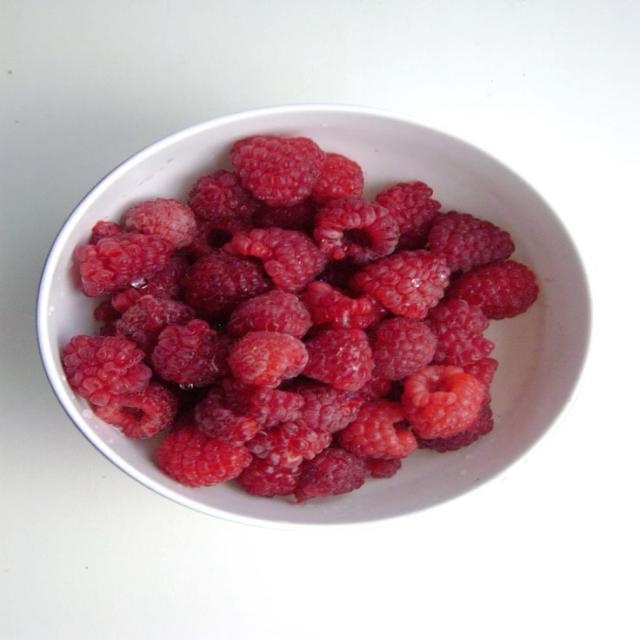raspberry: (352, 250, 449, 319), (231, 136, 325, 206), (225, 228, 327, 292), (62, 335, 151, 405), (76, 233, 174, 296), (181, 250, 270, 319), (402, 366, 485, 438), (314, 198, 399, 264), (158, 427, 252, 486), (447, 261, 538, 319), (152, 320, 230, 386), (429, 211, 514, 270), (94, 383, 177, 438), (426, 299, 493, 366), (117, 296, 194, 354), (339, 400, 417, 457), (188, 170, 258, 233), (112, 255, 188, 313), (229, 332, 308, 387), (376, 182, 439, 249), (304, 330, 373, 390), (222, 378, 304, 428), (227, 290, 312, 337), (301, 281, 386, 328), (372, 318, 436, 380), (295, 448, 367, 502), (247, 423, 331, 468), (194, 388, 259, 444), (418, 405, 493, 452), (123, 199, 195, 247), (294, 383, 362, 433), (312, 153, 363, 203), (237, 458, 300, 497), (254, 199, 317, 232), (186, 220, 232, 259), (464, 358, 498, 404), (318, 261, 360, 290), (350, 376, 392, 401), (464, 358, 498, 388), (89, 221, 122, 243), (366, 458, 401, 478), (94, 301, 120, 322), (99, 321, 117, 336)
